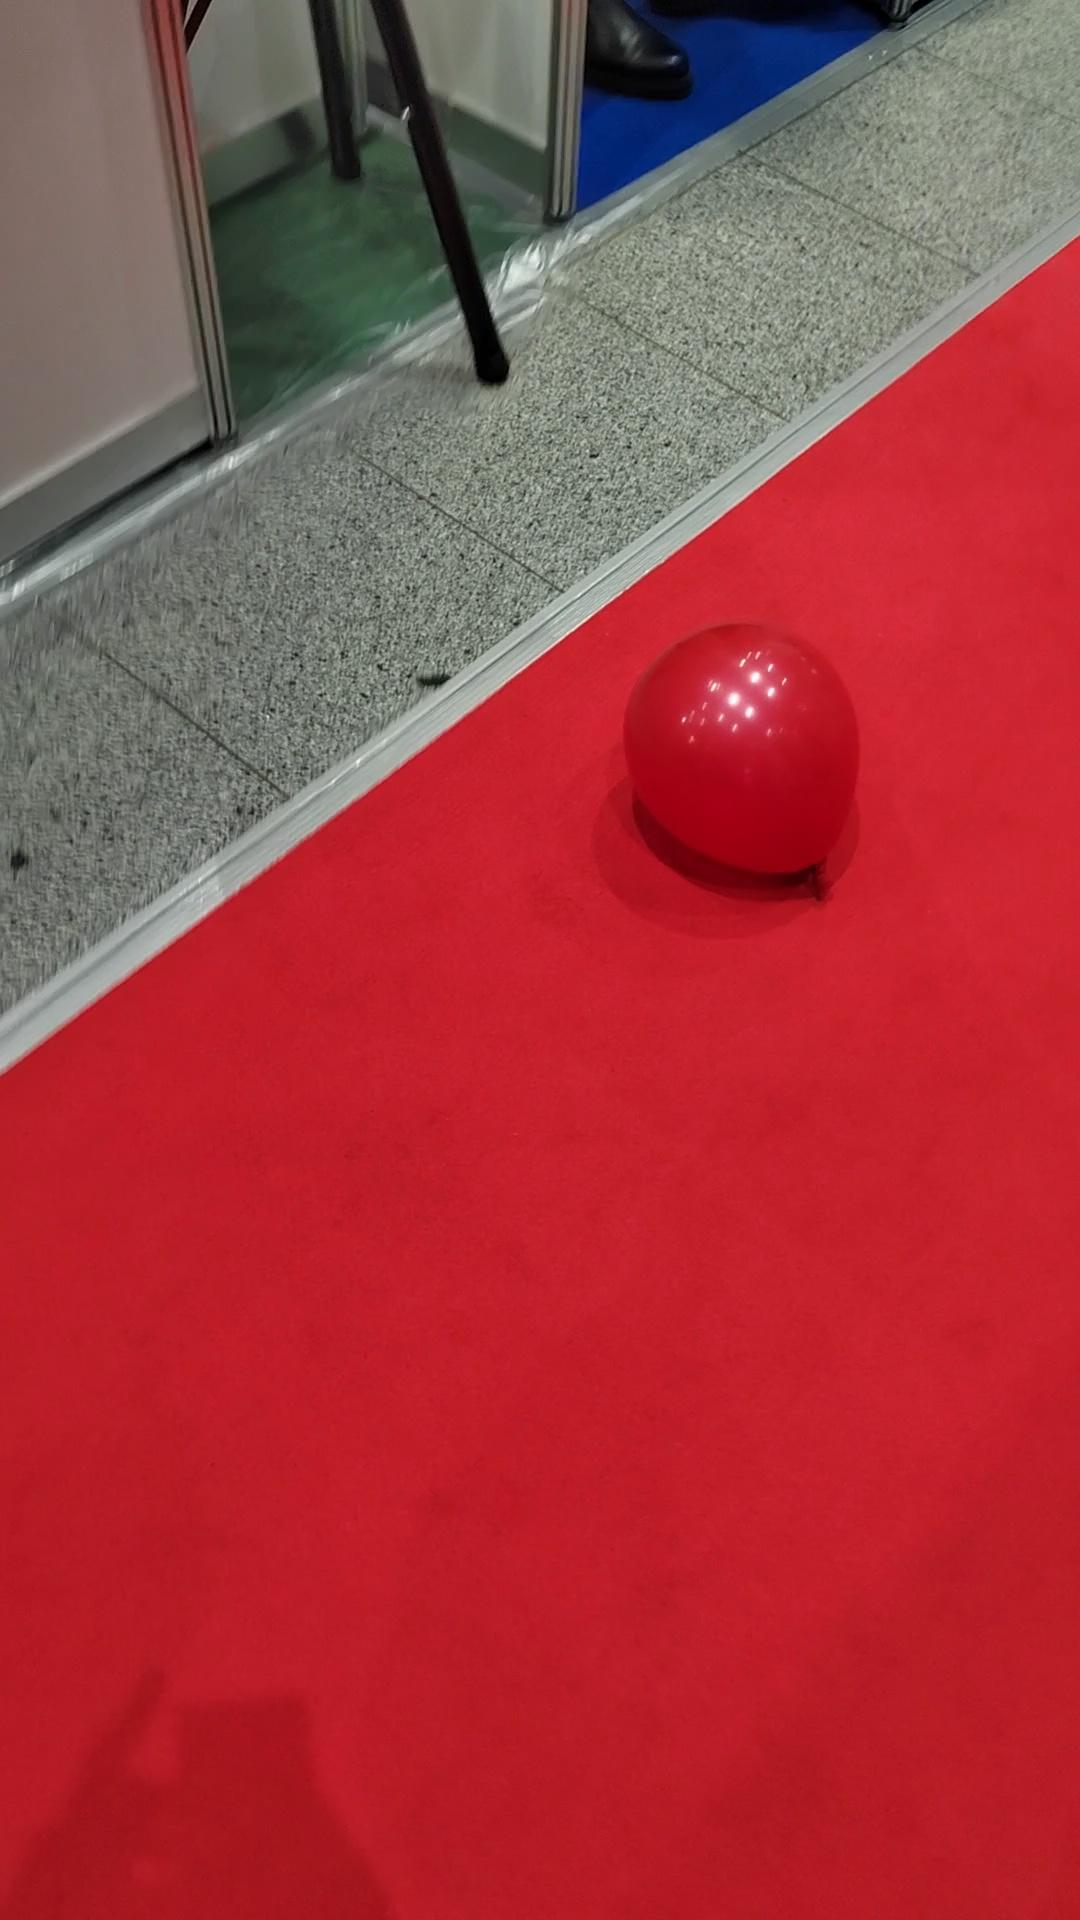red: (613, 607, 867, 894)
